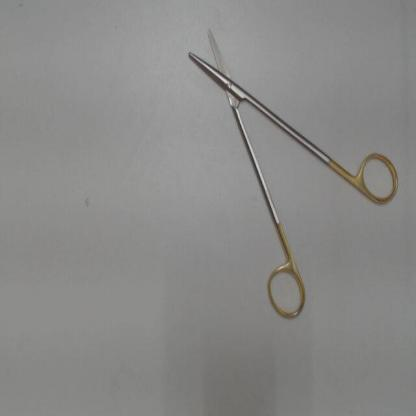7 Metzenbaum Scissors: (183, 23, 406, 326)
